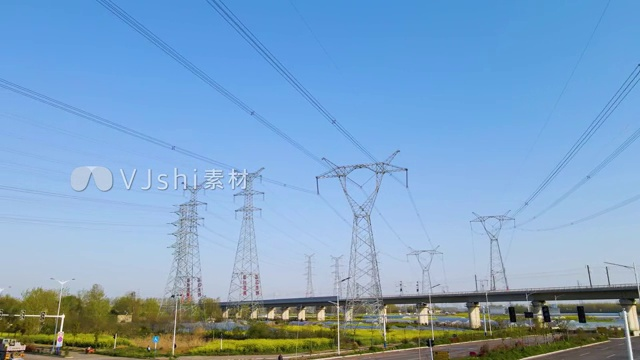tower_body: (313, 142, 413, 327), (166, 186, 206, 325), (467, 205, 527, 292), (407, 244, 447, 297)
tower_foot: (344, 279, 386, 324), (485, 268, 511, 289)
tower_head: (316, 145, 409, 214), (470, 209, 522, 241)
